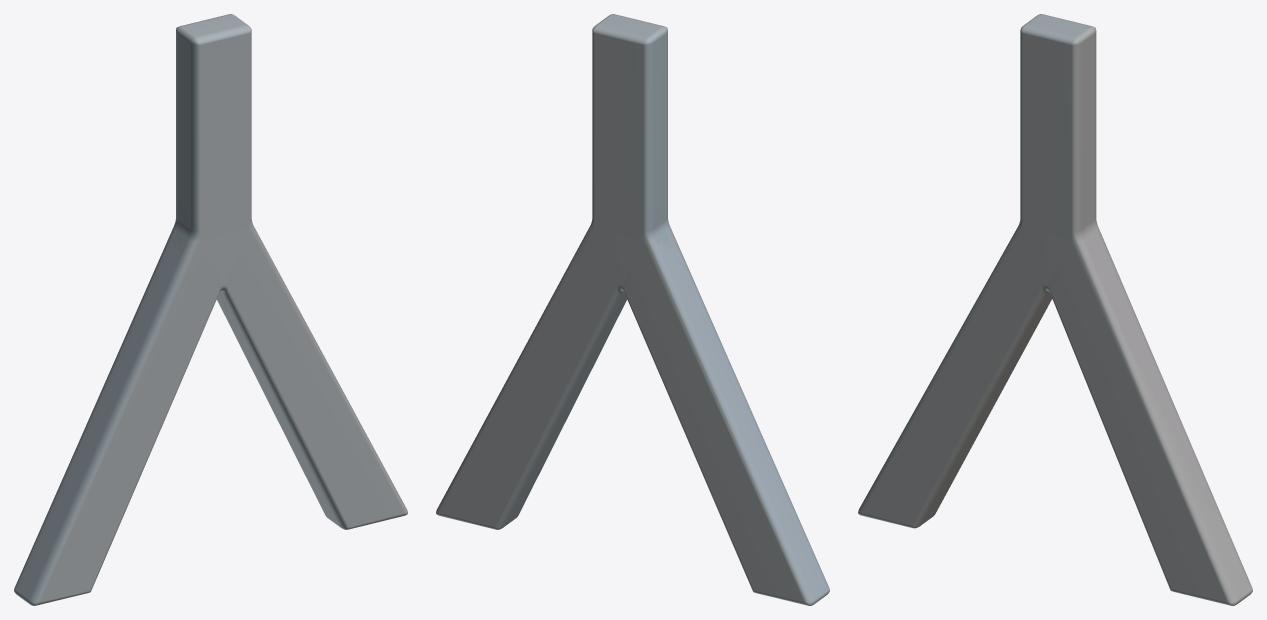
File: Suspente.fbx
3 views of the same model, side by side, from view 1: azimuth 30°, elevation 25°; view 2: azimuth 150°, elevation 25°; view 3: azimuth 330°, elevation 25° (orthographic).
Visible parts, largest first — view 1: node_id33; view 2: node_id33; view 3: node_id33.
Part boxes in pixels (bbox=[...]): node_id33: bbox=[14, 14, 407, 605]; node_id33: bbox=[436, 14, 829, 605]; node_id33: bbox=[858, 14, 1252, 605].
Size of the model in its own units: 0.7092 by 0.9492 by 0.0736.
1 material, 1 textured.
